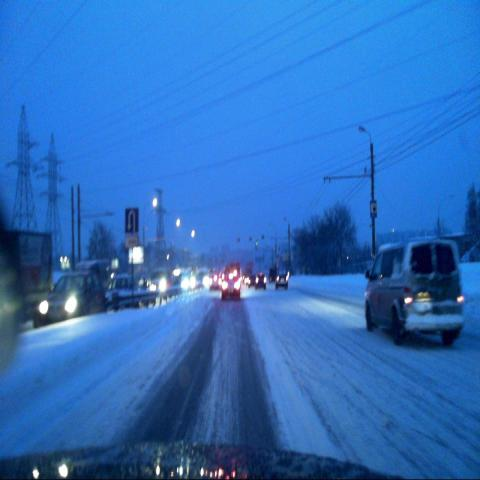6_3_1: (125, 206, 141, 233)
